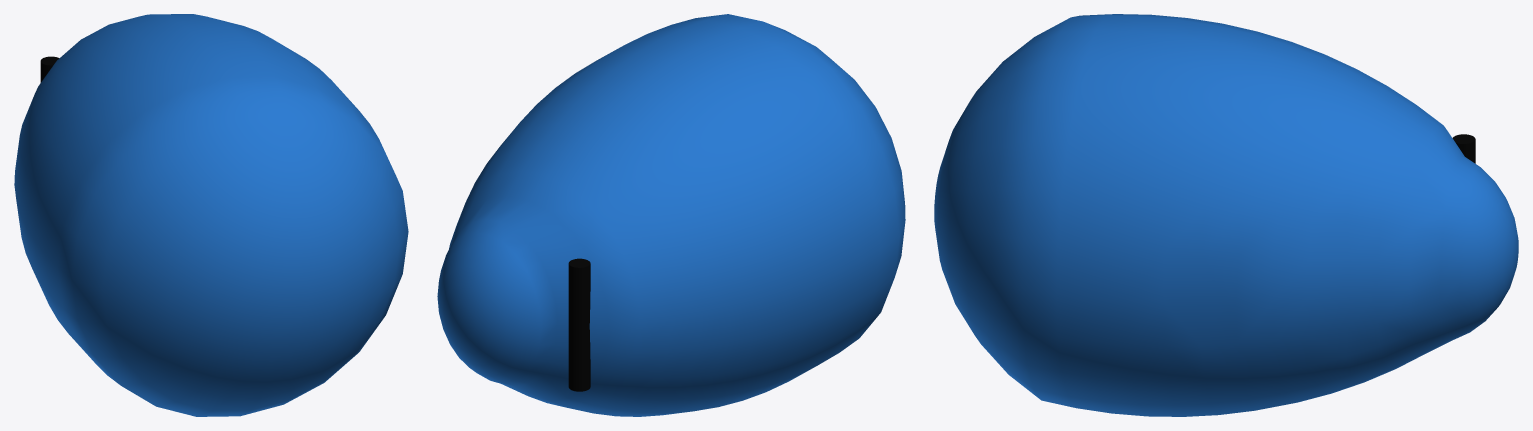
The model's file is head.obj.
The picture shows the model from 3 angles, left to right: view 1: azimuth 30°, elevation 25°; view 2: azimuth 150°, elevation 25°; view 3: azimuth 270°, elevation 25°; orthographic projection. The views are drawn at different scales.
Parts seen in each view (by area): view 1: Mesh1 Component_9_1 Component_28_1 Model; view 2: Mesh1 Component_9_1 Component_28_1 Model, Mesh2 Component_28_1 Model; view 3: Mesh1 Component_9_1 Component_28_1 Model.
Part boxes in pixels (x1,y1,x2,y2): Mesh1 Component_9_1 Component_28_1 Model: [14, 14, 408, 416]; Mesh1 Component_9_1 Component_28_1 Model: [437, 14, 905, 416]; Mesh2 Component_28_1 Model: [568, 258, 590, 391]; Mesh1 Component_9_1 Component_28_1 Model: [934, 14, 1518, 416].
Bounding box in the file's own units: 0.0961 × 0.0929 × 0.1352.
